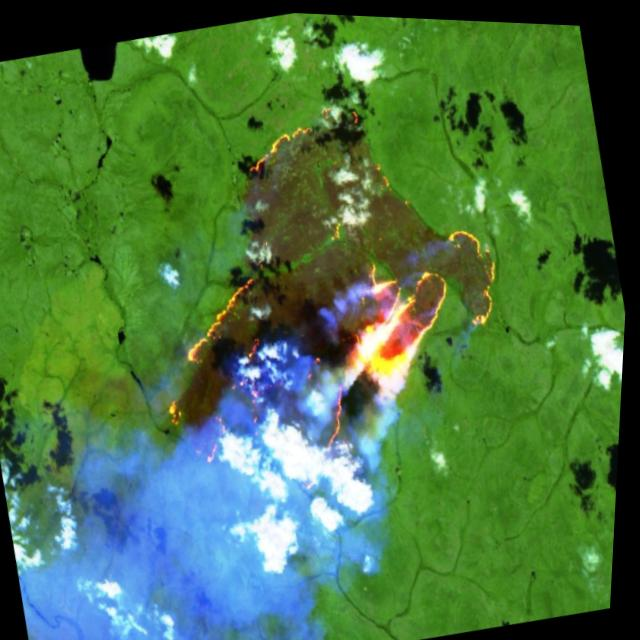fire: (108, 62, 542, 507)
